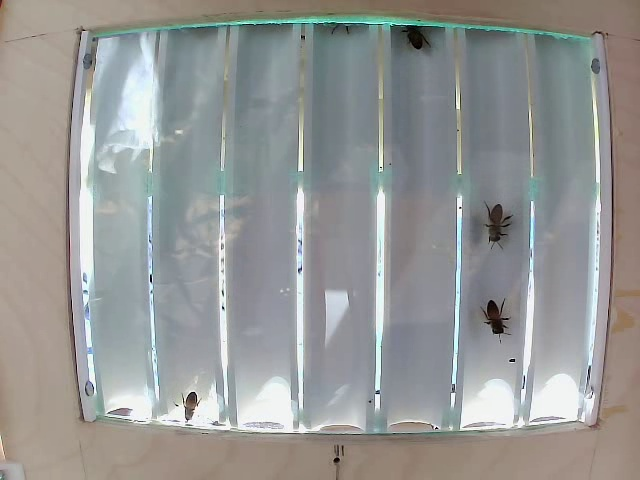bee: (478, 279, 524, 348), (476, 191, 523, 248)
